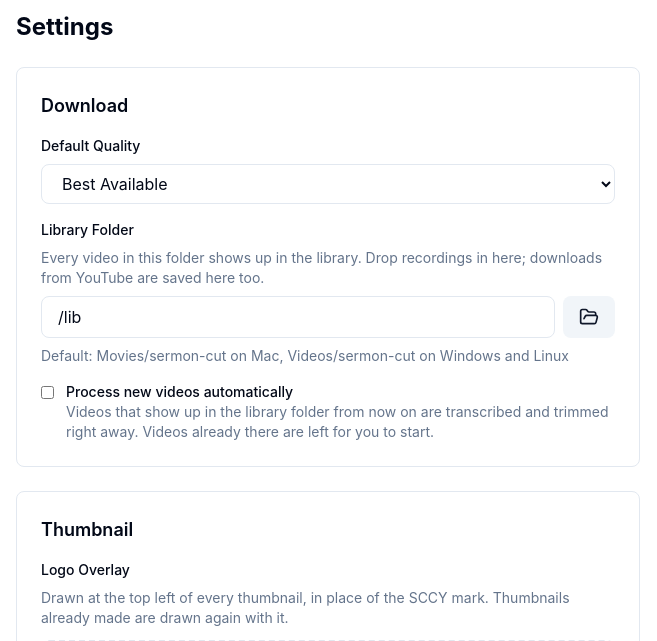
Test: Settings autosave › rolls a field back to the saved value when its save fails
The image size is (657, 641).
Select "720p" in the dropdown labelled "Default Quality" at (328, 184), box [41,164,615,204]
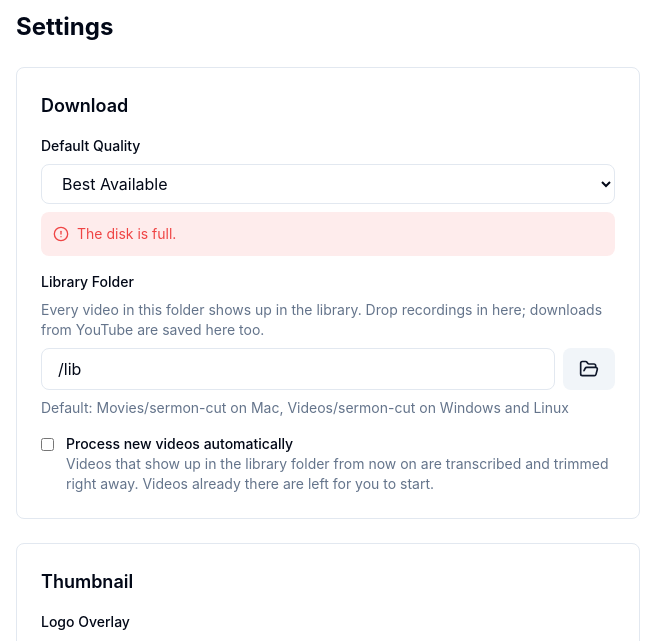
expect the message reads "The disk is full.": met, box [77,225,176,242]
Select "720p" in the dropdown labelled "Default Quality" at (328, 184), box [41,164,615,204]
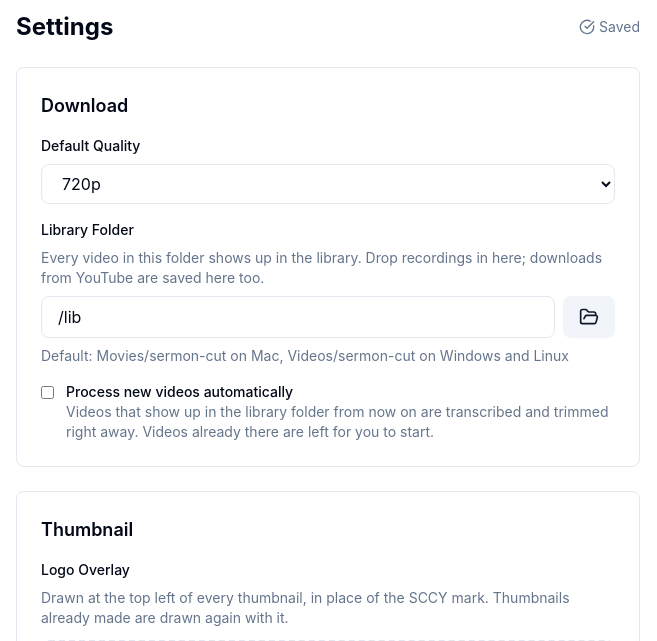
expect the message "The disk is full." is gone: met
